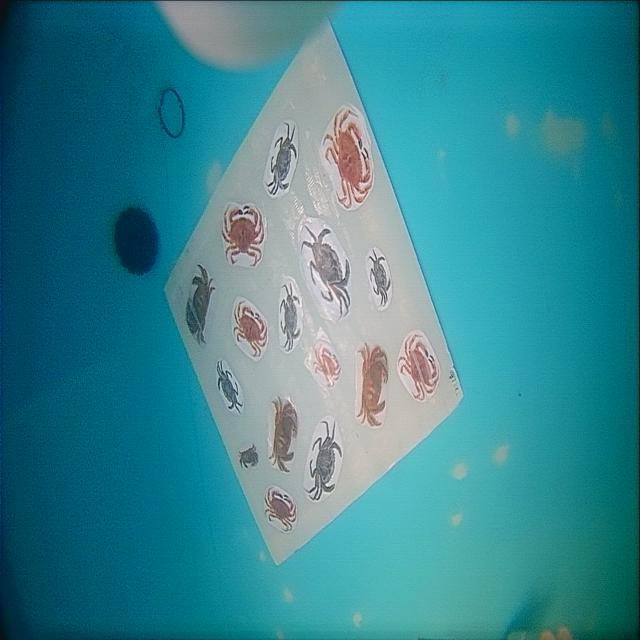GreenCrab: (302, 227, 350, 317), (307, 421, 342, 500), (266, 123, 297, 195), (280, 286, 301, 351), (370, 250, 390, 304)
